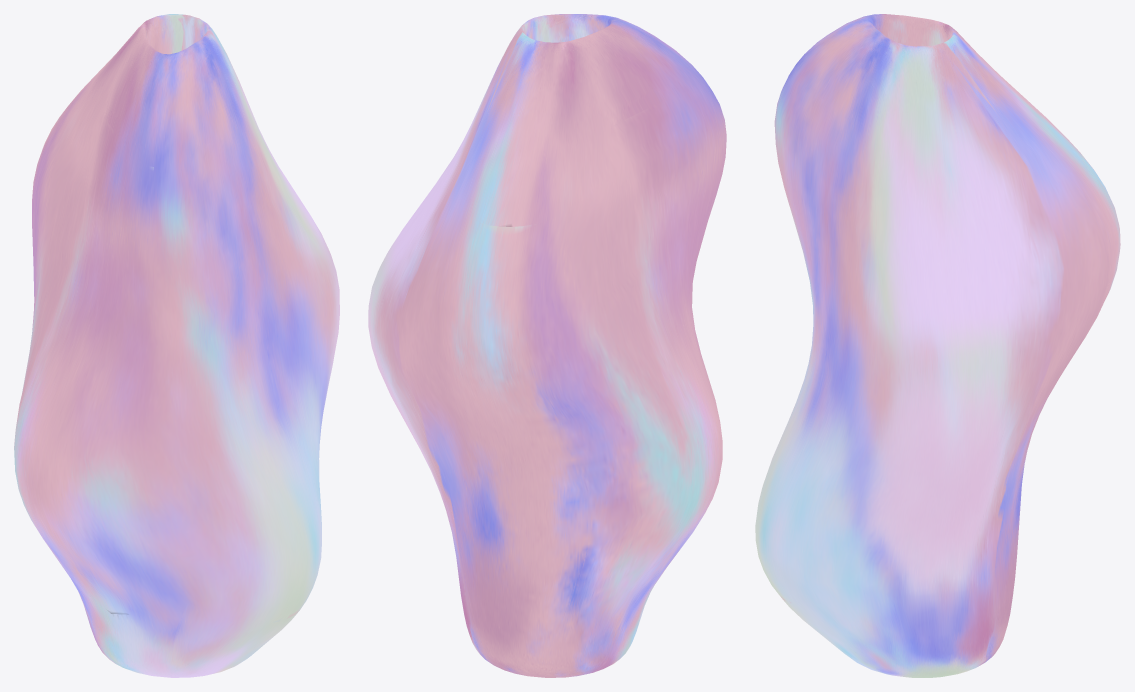
The model's file is Archi4.fbx.
3 views of the same model, side by side, from view 1: azimuth 30°, elevation 25°; view 2: azimuth 150°, elevation 25°; view 3: azimuth 270°, elevation 25° (orthographic).
Visible parts, largest first — view 1: Archi4; view 2: Archi4; view 3: Archi4.
Part boxes in pixels (x1,y1,x2,y2): Archi4: (14,14,339,677); Archi4: (368,14,726,677); Archi4: (755,14,1120,677).
Bounding box in the file's own units: 14.18 × 13.98 × 26.
Materials: 1 (1 with a texture image).
